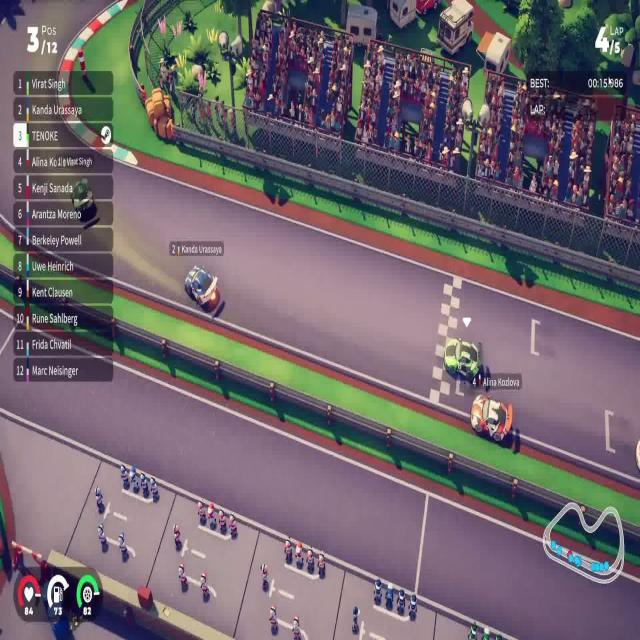car: (470, 393, 513, 443), (443, 337, 483, 387), (183, 264, 220, 313)
